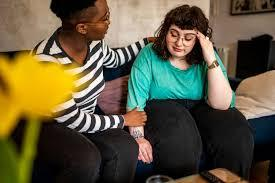Persons: (39, 0, 127, 61), (150, 7, 218, 71)
